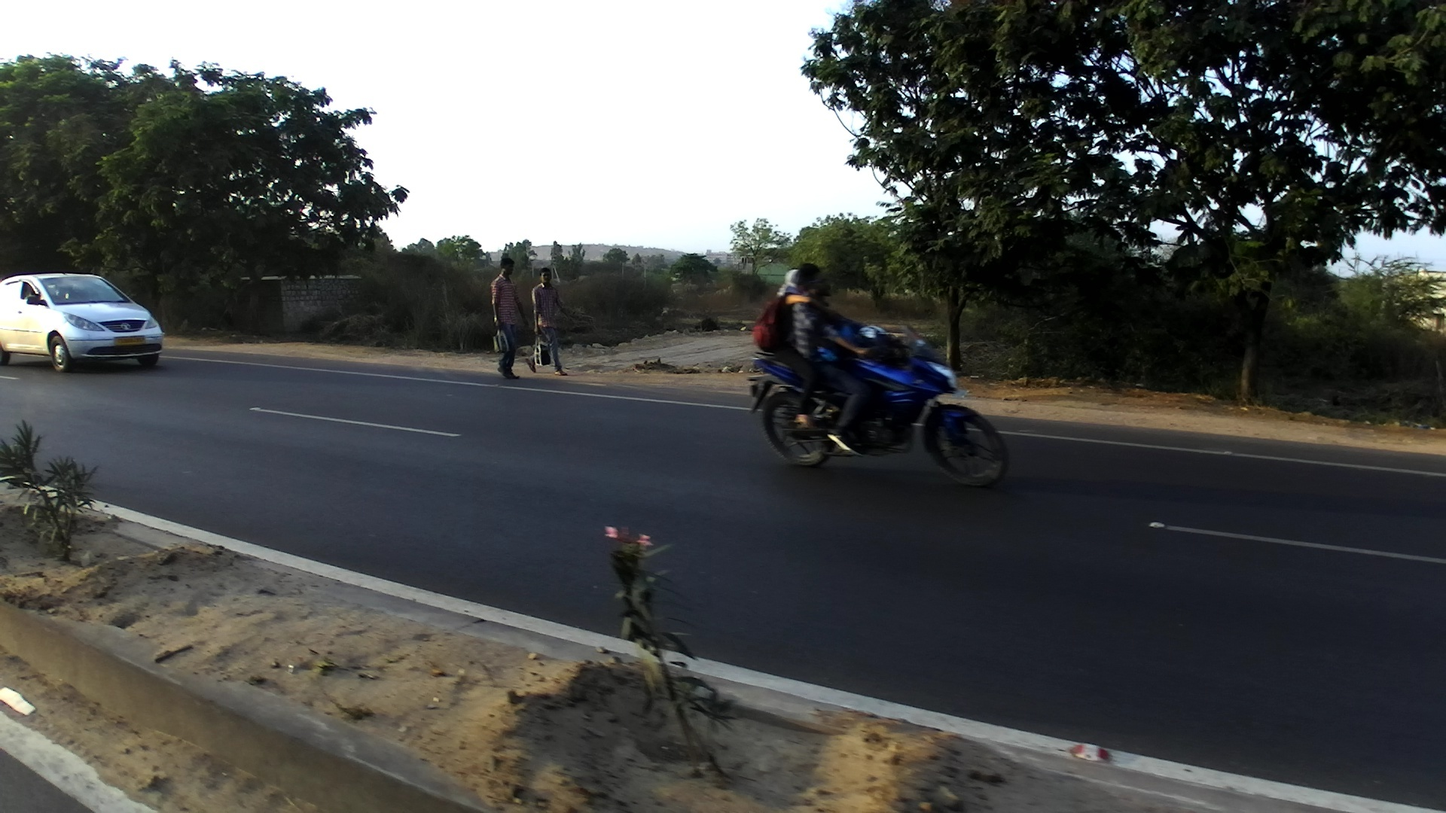car: (1, 273, 163, 370)
motorcycle: (746, 315, 1009, 490)
person: (486, 255, 533, 380), (525, 266, 576, 377)
rider: (792, 263, 899, 454), (749, 263, 830, 436)
